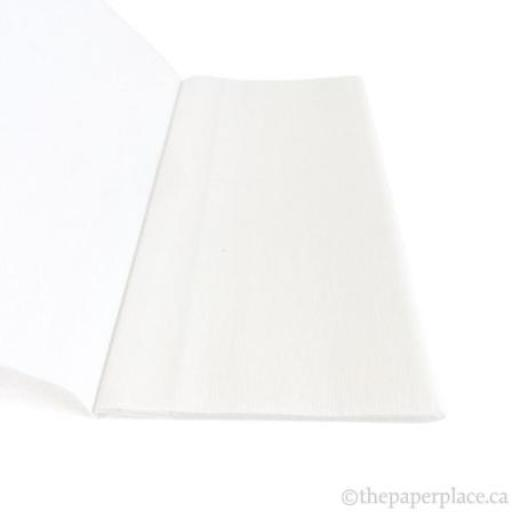paper: (0, 0, 461, 443)
